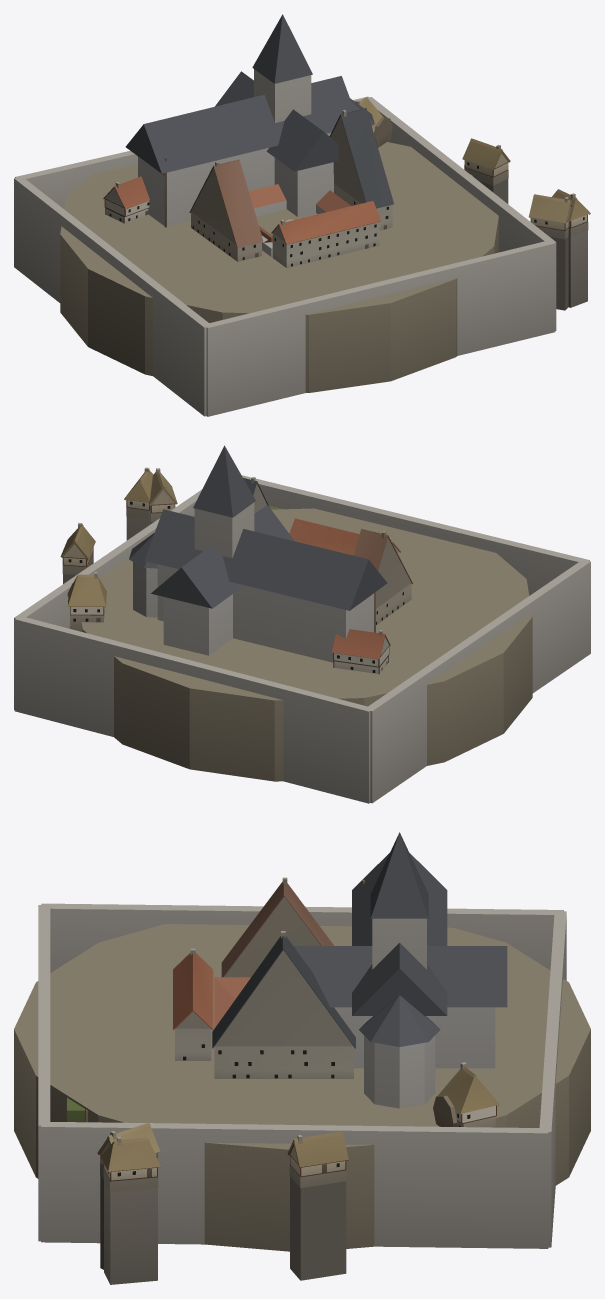
File: abbey_b.glb
The picture shows the model from 3 angles, top to bottom: view 1: azimuth 30°, elevation 25°; view 2: azimuth 150°, elevation 25°; view 3: azimuth 270°, elevation 25°; orthographic projection. The views are drawn at different scales.
Parts seen in each view (by area): view 1: abbey_b; view 2: abbey_b; view 3: abbey_b.
Part boxes in pixels (left/top/right/bottom): abbey_b: left=14, top=14, right=590, bottom=416; abbey_b: left=14, top=445, right=590, bottom=803; abbey_b: left=14, top=832, right=590, bottom=1284.
Bounding box in the file's own units: 2.12 × 1.2 × 1.9.
